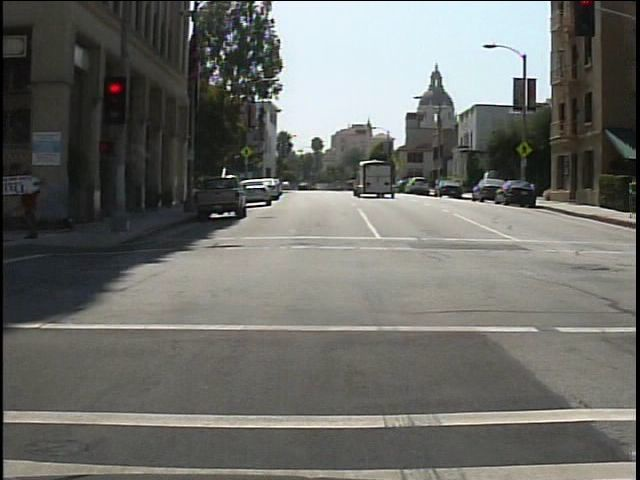person: (11, 165, 52, 245)
